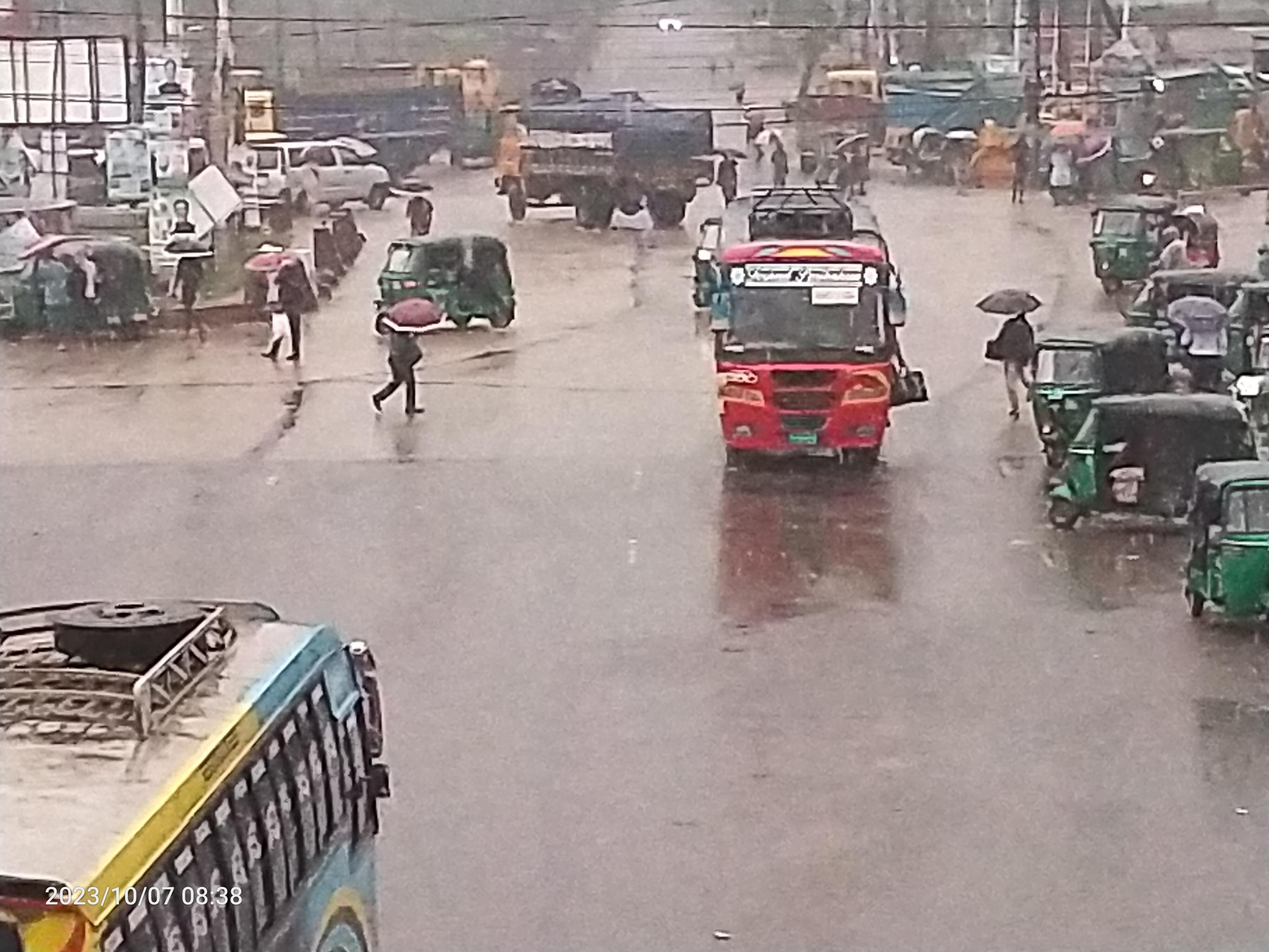Bus: (0, 550, 428, 952), (681, 172, 961, 515)
Car: (239, 136, 403, 222)
Truck: (479, 78, 713, 240), (225, 42, 459, 184)
